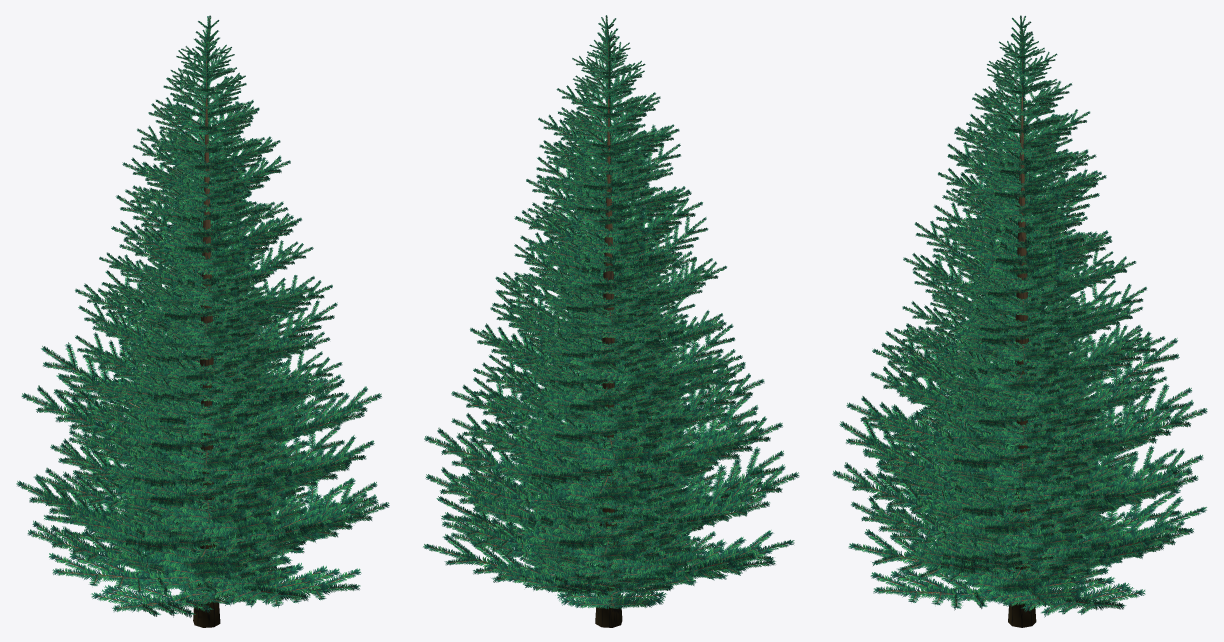
The model's file is treePine3.glb.
3 renders of one model, left to right at view 1: azimuth 30°, elevation 25°; view 2: azimuth 150°, elevation 25°; view 3: azimuth 270°, elevation 25°, orthographic.
Parts seen in each view (by area): view 1: Plane.012, Plane.001, Cylinder; view 2: Plane.012, Plane.001, Cylinder; view 3: Plane.012, Plane.001, Cylinder.
Boxes of the visible parts, left/top/right/bottom form: Plane.012: left=21, top=30, right=381, bottom=617; Plane.001: left=16, top=15, right=389, bottom=605; Cylinder: left=193, top=98, right=220, bottom=627; Plane.012: left=423, top=29, right=794, bottom=608; Plane.001: left=424, top=15, right=799, bottom=596; Cylinder: left=595, top=99, right=622, bottom=627; Plane.012: left=832, top=29, right=1203, bottom=617; Plane.001: left=839, top=15, right=1207, bottom=606; Cylinder: left=1008, top=97, right=1036, bottom=627.
Size of what is drawn, in the model's own units: 22.54 by 39.97 by 22.57.
2 materials, 2 textured.
